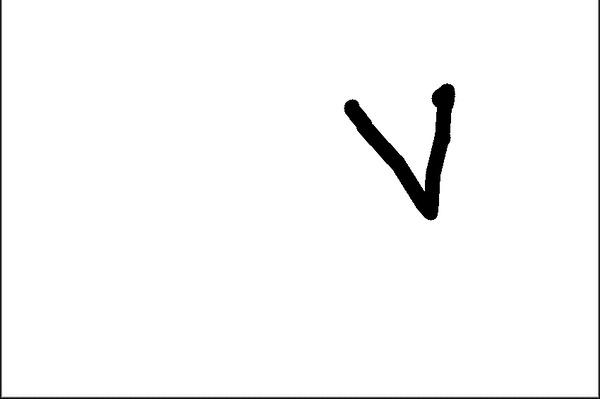V: (324, 72, 473, 224)
